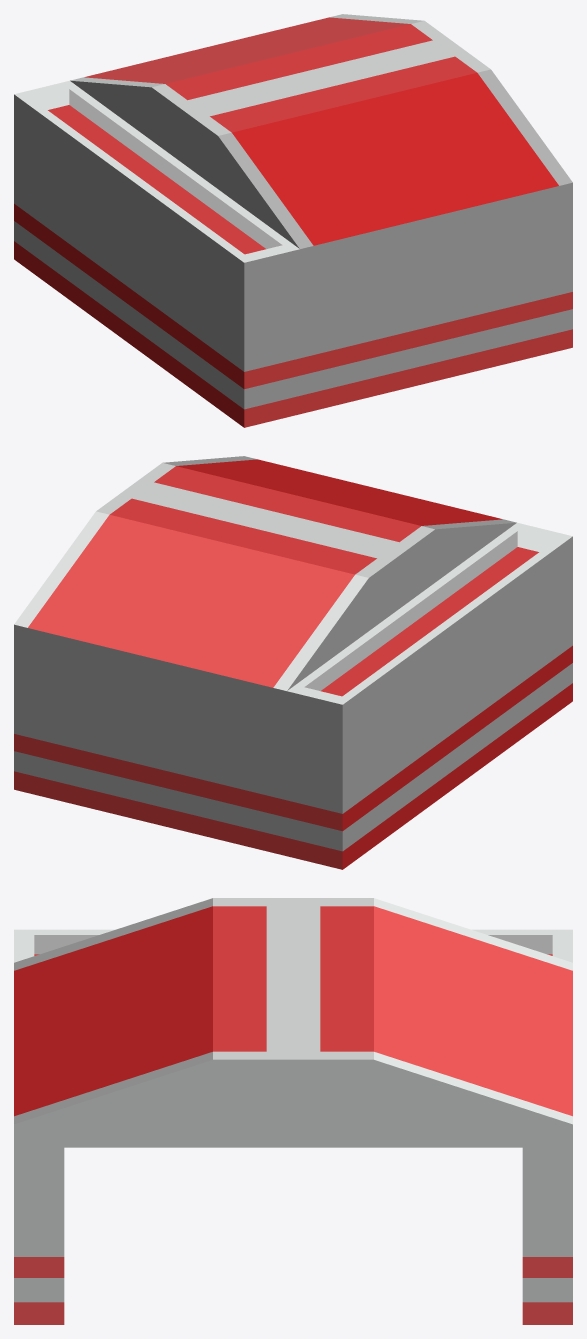
Rendered from Nhanangcap.fbx.
The picture shows the model from 3 angles, top to bottom: view 1: azimuth 30°, elevation 25°; view 2: azimuth 150°, elevation 25°; view 3: azimuth 270°, elevation 25°; orthographic projection. The views are drawn at different scales.
Visible parts, largest first — view 1: Nha_Nang_cap; view 2: Nha_Nang_cap; view 3: Nha_Nang_cap.
Part boxes in pixels (x1,y1,x2,y2): Nha_Nang_cap: (14,14,572,427); Nha_Nang_cap: (14,456,572,869); Nha_Nang_cap: (14,898,572,1324).
Bounding box in the file's own units: 124 × 78.59 × 150.
